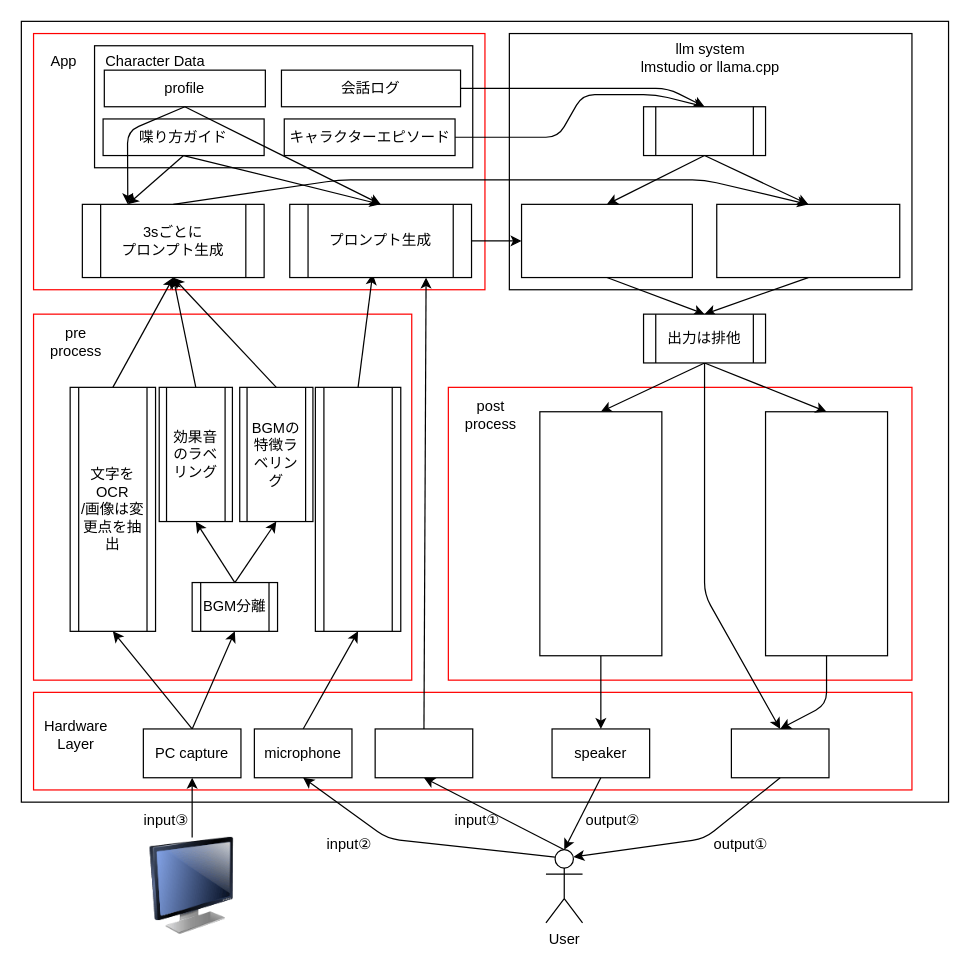
Image size: 970x970. Some labels were removed from this diagram. Each missing label, with the centre of its shape:
"display" belongs at (779,753).
"keyboard" belongs at (423,753).
"live2d vtube studio?" belongs at (826,533).
"RAG" belongs at (704,131).
"TTS style-bert-vits2" belongs at (600,533).
"会話用LLM" belongs at (606,240).
"環境認識用LLM" belongs at (808,240).
"音声認識 /抽出" belongs at (357,508).
